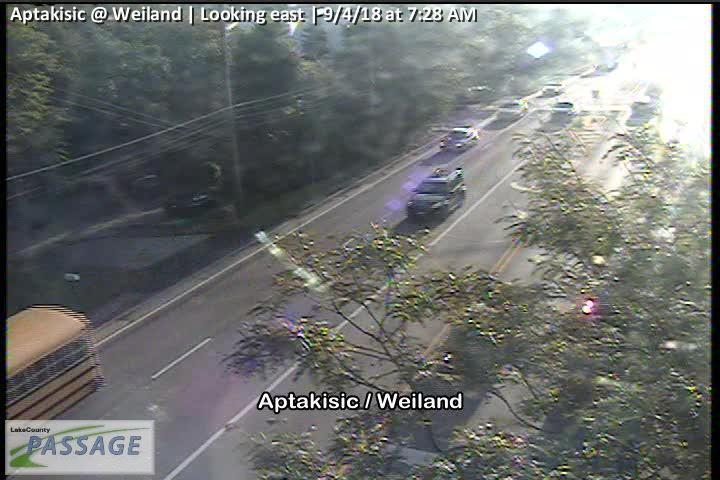Bus: (1, 303, 103, 453)
SUV: (407, 169, 467, 216)
Sedan: (440, 127, 479, 151), (496, 99, 528, 120), (626, 96, 652, 116), (550, 101, 575, 120), (542, 81, 564, 94)
